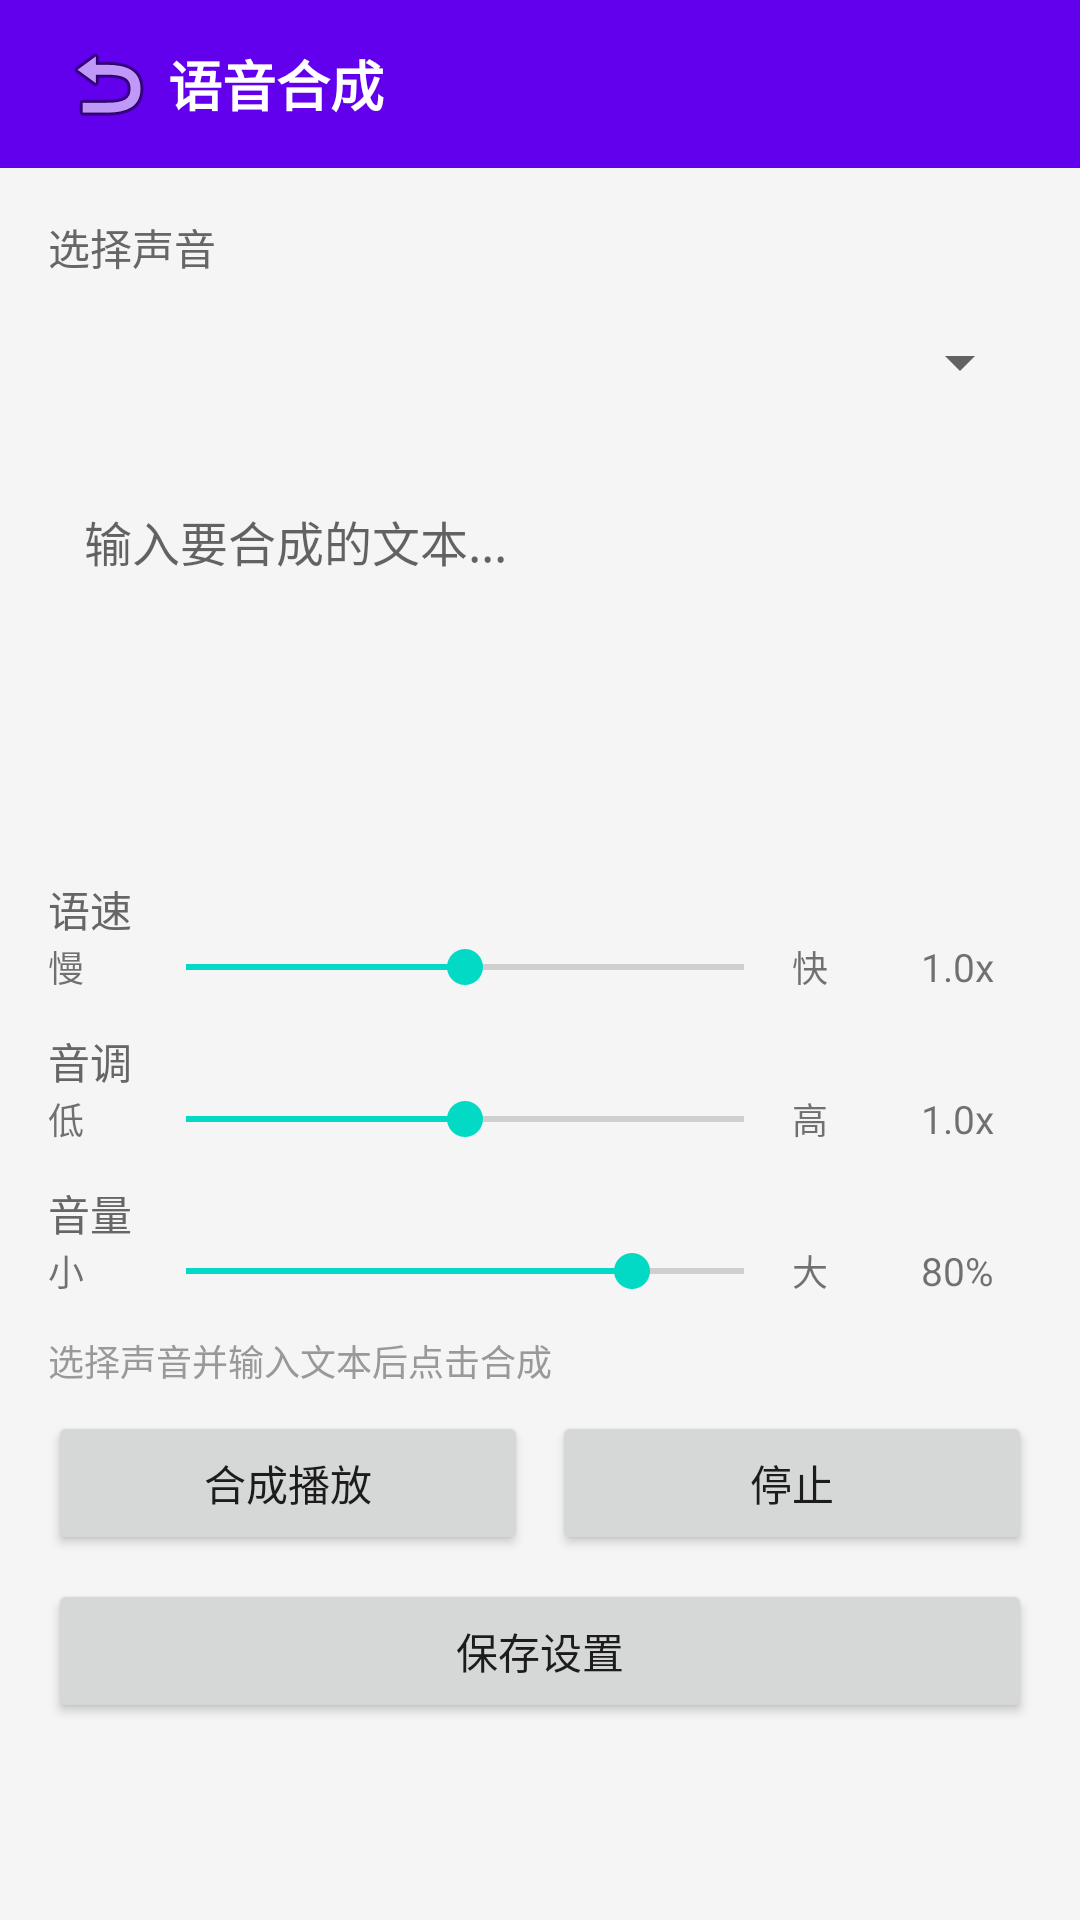

Screen size 1080x1920. Icon name, then its center in pixels as (x,y):
revert: (109,84)
